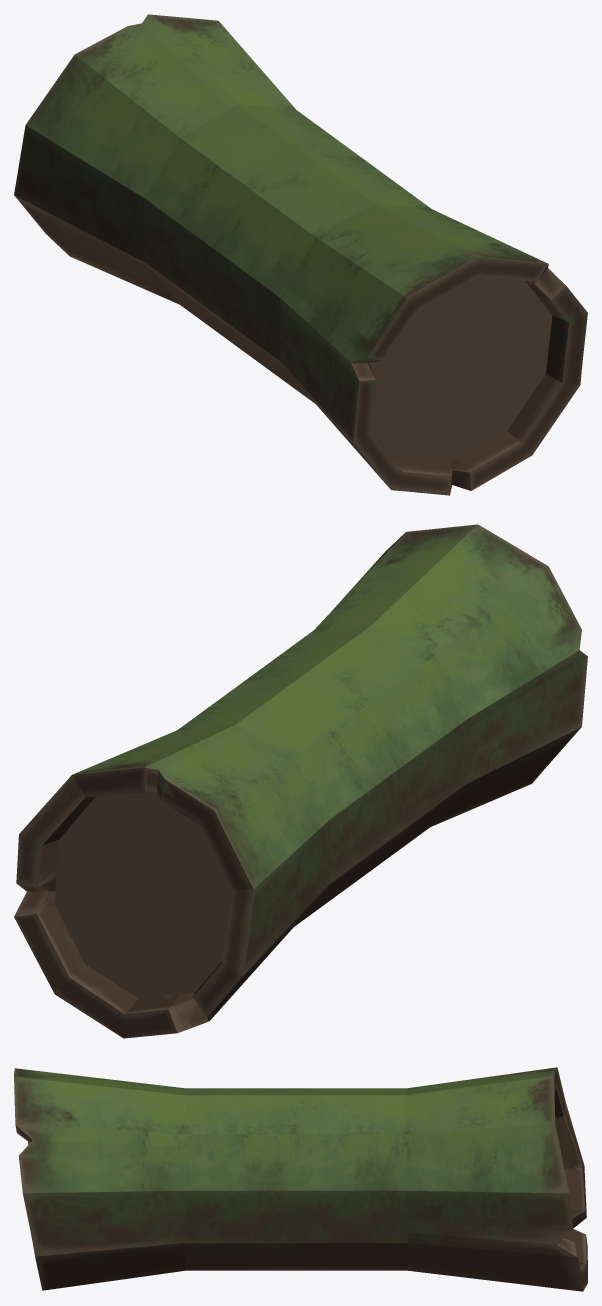
Rendered from DarkerLogMossy.fbx.
3 renders of one model, top to bottom at view 1: azimuth 30°, elevation 25°; view 2: azimuth 150°, elevation 25°; view 3: azimuth 270°, elevation 25°, orthographic. The views are drawn at different scales.
Parts seen in each view (by area): view 1: Cylinder.007; view 2: Cylinder.007; view 3: Cylinder.007.
Boxes of the visible parts, x1=… form: Cylinder.007: x1=14, y1=14, x2=587, y2=495; Cylinder.007: x1=14, y1=524, x2=587, y2=1038; Cylinder.007: x1=14, y1=1067, x2=587, y2=1291.
Bounding box in the file's own units: 38.76 × 40.76 × 102.
